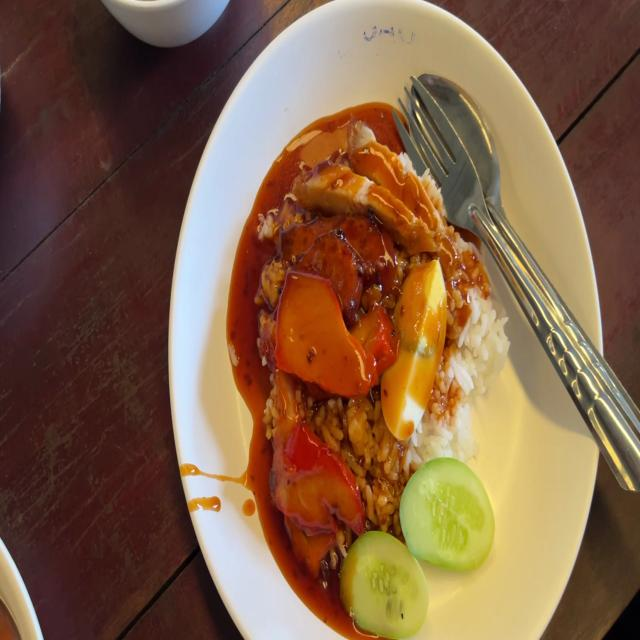01boiled_egg: (383, 264, 442, 438)
01chainese_sausage: (291, 206, 389, 292)
01crispy_pork: (292, 124, 445, 254)
01red_pork: (267, 412, 354, 566), (279, 268, 364, 396)
01red_pork_and_crispy_pork: (255, 128, 508, 640)
cucumber: (401, 458, 496, 566), (341, 530, 428, 638)
